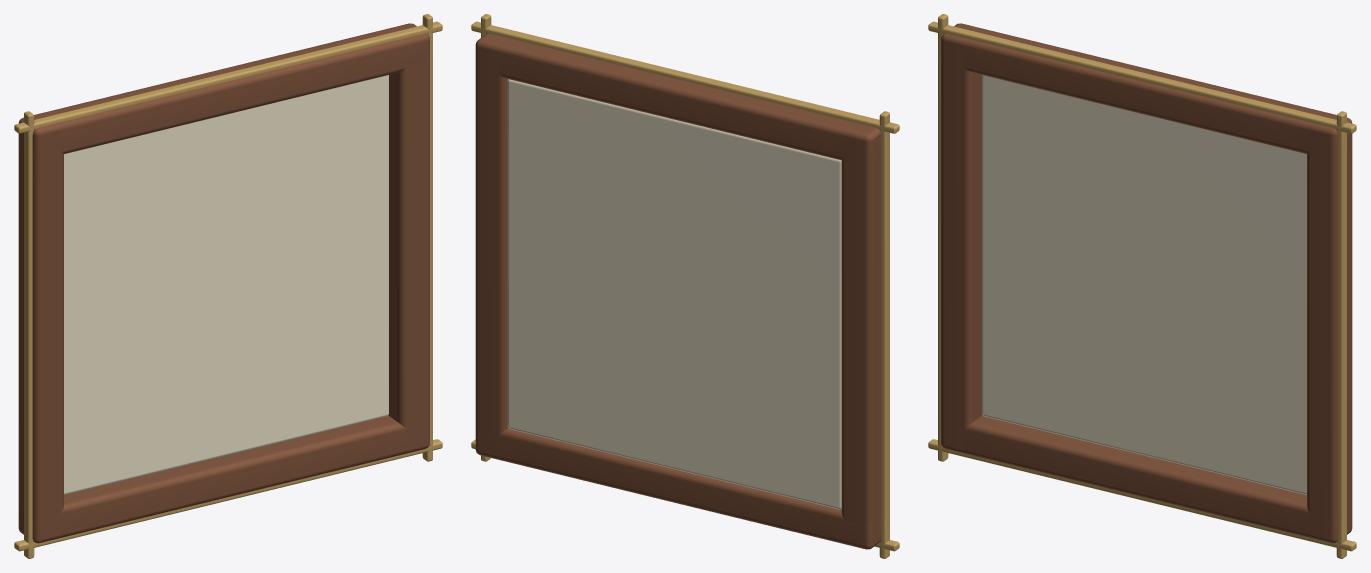
The model's file is classic-frame.glb.
3 renders of one model, left to right at view 1: azimuth 30°, elevation 25°; view 2: azimuth 150°, elevation 25°; view 3: azimuth 330°, elevation 25°, orthographic.
Visible parts, largest first — view 1: Side moulding.008; view 2: Side moulding.008; view 3: Side moulding.008.
Boxes of the visible parts, x1=… form: Side moulding.008: x1=14, y1=14, x2=442, y2=558; Side moulding.008: x1=471, y1=14, x2=899, y2=558; Side moulding.008: x1=928, y1=14, x2=1356, y2=558.
Bounding box in the file's own units: 1.16 × 1.16 × 0.09.
